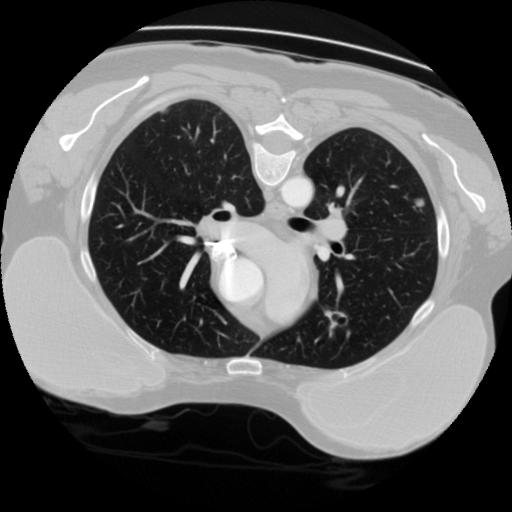nodule: (410, 195, 428, 213)
